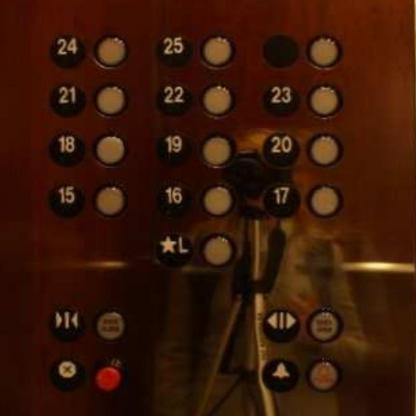15: (47, 181, 86, 218)
16: (155, 178, 194, 216)
17: (262, 182, 304, 218)
18: (47, 130, 88, 167)
19: (152, 130, 192, 164)
20: (260, 130, 302, 168)
21: (47, 81, 87, 119)
22: (154, 80, 193, 116)
23: (260, 81, 303, 118)
24: (47, 32, 87, 69)
25: (154, 32, 193, 67)
alarm: (260, 356, 301, 393), (306, 358, 341, 392)
close: (48, 302, 86, 344)
empty: (304, 32, 346, 71), (197, 32, 238, 69), (91, 81, 129, 119), (92, 180, 129, 219), (198, 82, 237, 119), (306, 132, 345, 169), (92, 32, 128, 69), (93, 130, 129, 167), (199, 132, 236, 168), (306, 82, 343, 118), (307, 182, 344, 218), (199, 232, 236, 266), (200, 182, 235, 217)
indicator: (259, 32, 301, 69)
open: (261, 305, 303, 343)
sL: (152, 228, 196, 268)
stop: (48, 354, 86, 392), (93, 359, 125, 393)
text_blur: (306, 305, 344, 344), (92, 305, 130, 343)
